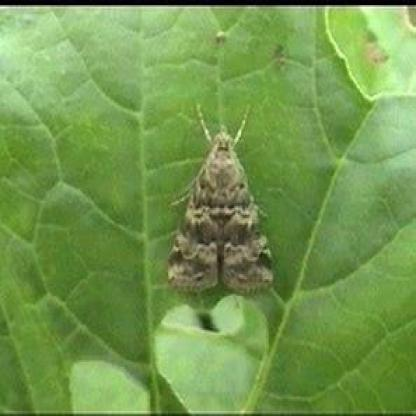Hellula undalis: (166, 91, 278, 294)
